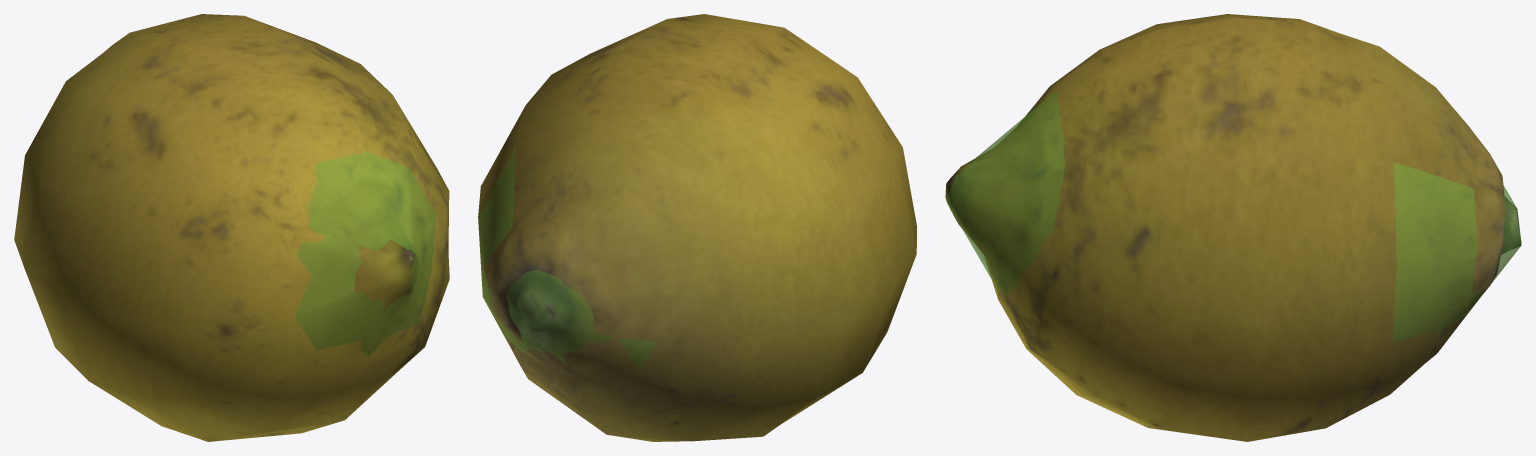
Rendered from pg_Lemon_01.fbx.
3 views of the same model, side by side, from view 1: azimuth 30°, elevation 25°; view 2: azimuth 150°, elevation 25°; view 3: azimuth 270°, elevation 25° (orthographic). The views are drawn at different scales.
Visible parts, largest first — view 1: pg_Lemon_01_a_LOD0, pg_Lemon_01_a_col; view 2: pg_Lemon_01_a_LOD0, pg_Lemon_01_a_col; view 3: pg_Lemon_01_a_LOD0, pg_Lemon_01_a_col.
Boxes of the visible parts, <box> form: pg_Lemon_01_a_LOD0: <box>14,14,449,441</box>; pg_Lemon_01_a_col: <box>295,151,436,356</box>; pg_Lemon_01_a_LOD0: <box>478,14,916,441</box>; pg_Lemon_01_a_col: <box>478,147,656,372</box>; pg_Lemon_01_a_LOD0: <box>945,14,1521,441</box>; pg_Lemon_01_a_col: <box>947,90,1521,341</box>.
Size of what is drawn, in the model's own units: 5.97 by 5.89 by 7.82.
